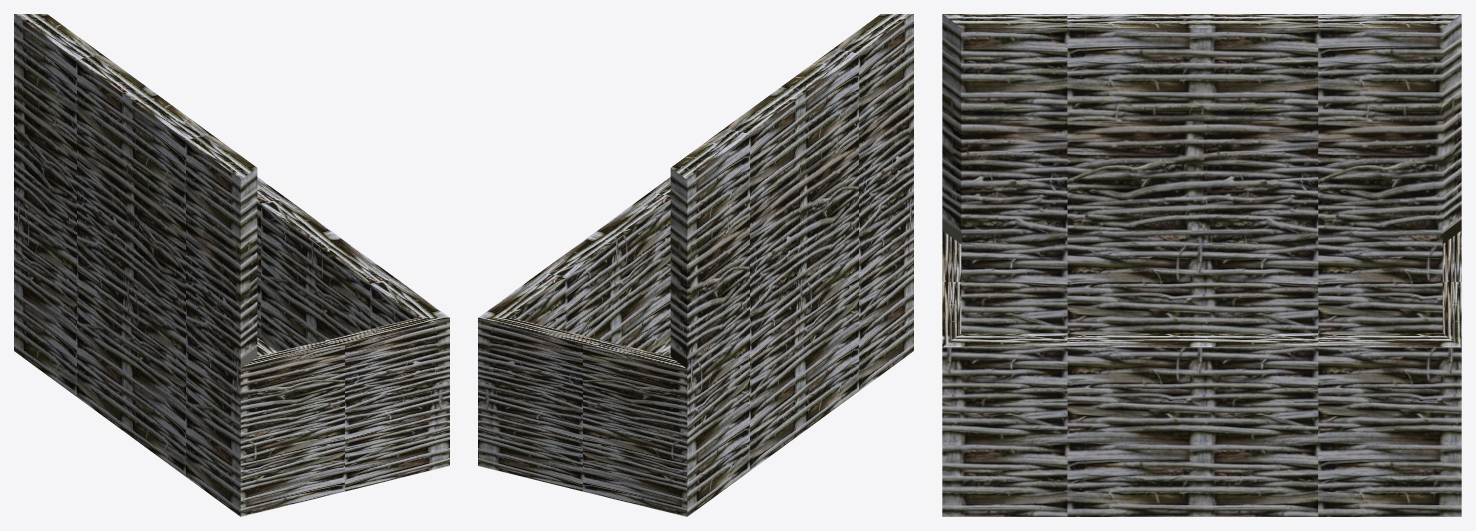
File: Wattle crate.fbx
3 views of the same model, side by side, from view 1: azimuth 30°, elevation 25°; view 2: azimuth 150°, elevation 25°; view 3: azimuth 270°, elevation 25° (orthographic). The views are drawn at different scales.
Parts seen in each view (by area): view 1: pCube1; view 2: pCube1; view 3: pCube1.
Part boxes in pixels (bbox=[...]): pCube1: bbox=[14, 14, 449, 516]; pCube1: bbox=[478, 14, 913, 516]; pCube1: bbox=[942, 14, 1461, 516].
Bounding box in the file's own units: 0.3 × 0.4621 × 0.5632.
Materials: 1 (1 with a texture image).
